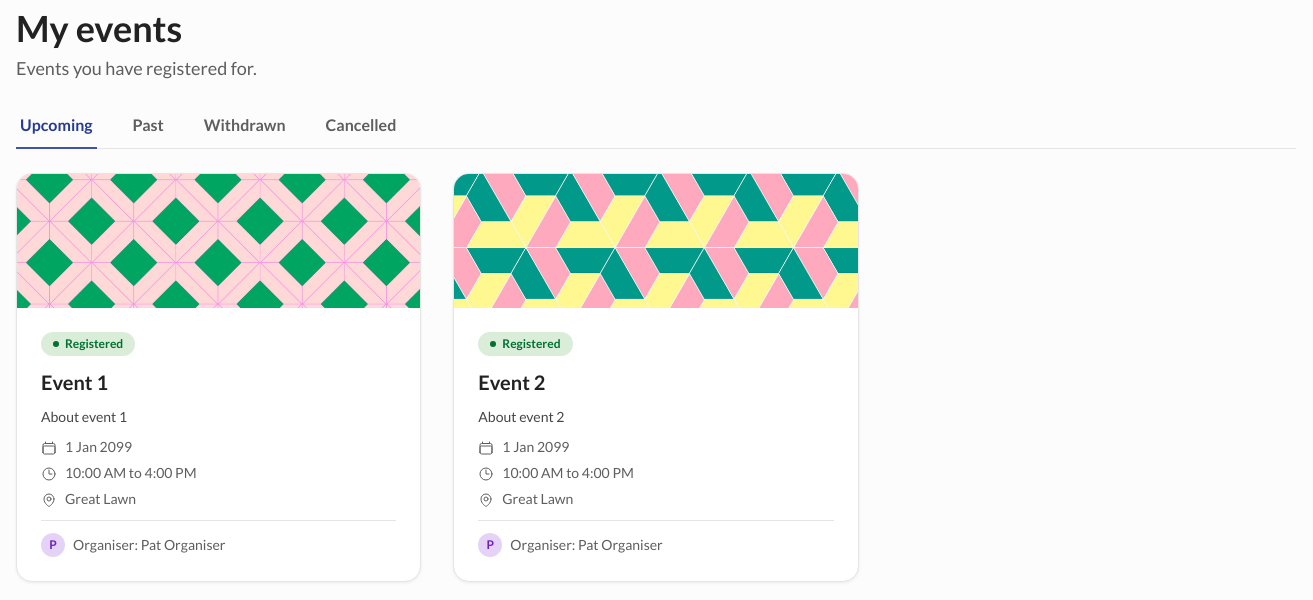
Test case: AttendeeEventsView › splits events into Upcoming and Past, with no count badges on the tabs
Expected: the number of links with class "event-card" is 2, [16, 173, 421, 582]; [453, 173, 859, 582]
Click the tab "Past" at (148, 126), box [129, 103, 168, 149]
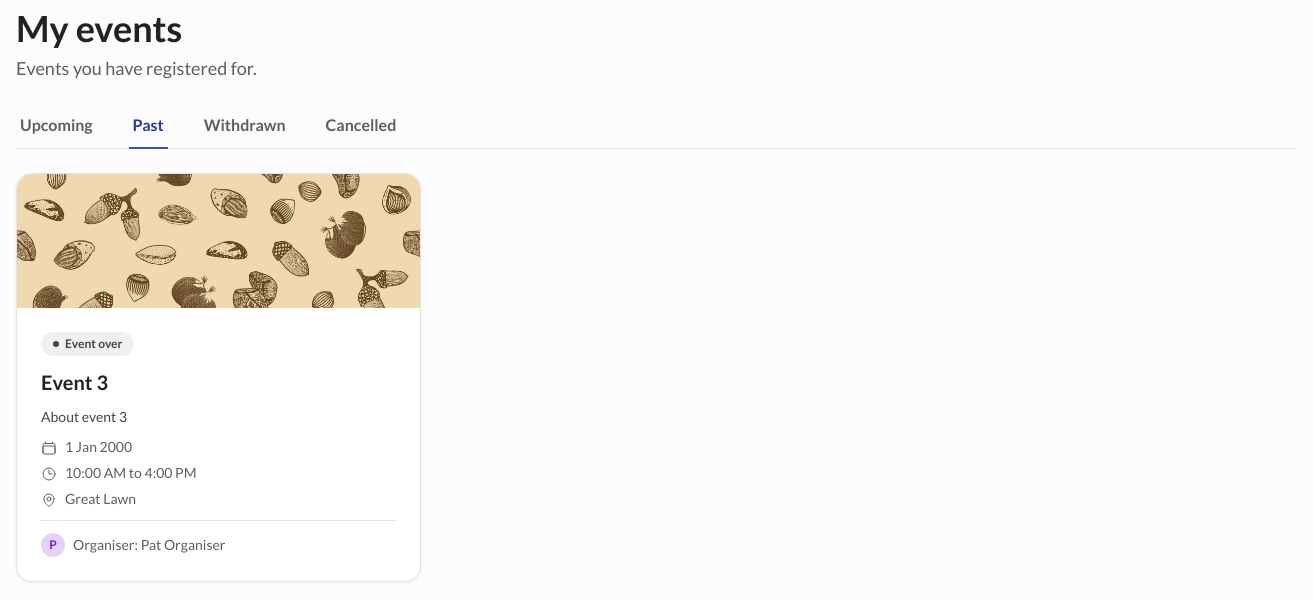
Expected: the number of links with class "event-card" is 1, [16, 173, 421, 582]
Expected: the link with class "event-card" shows "Event 3", [16, 173, 421, 582]
